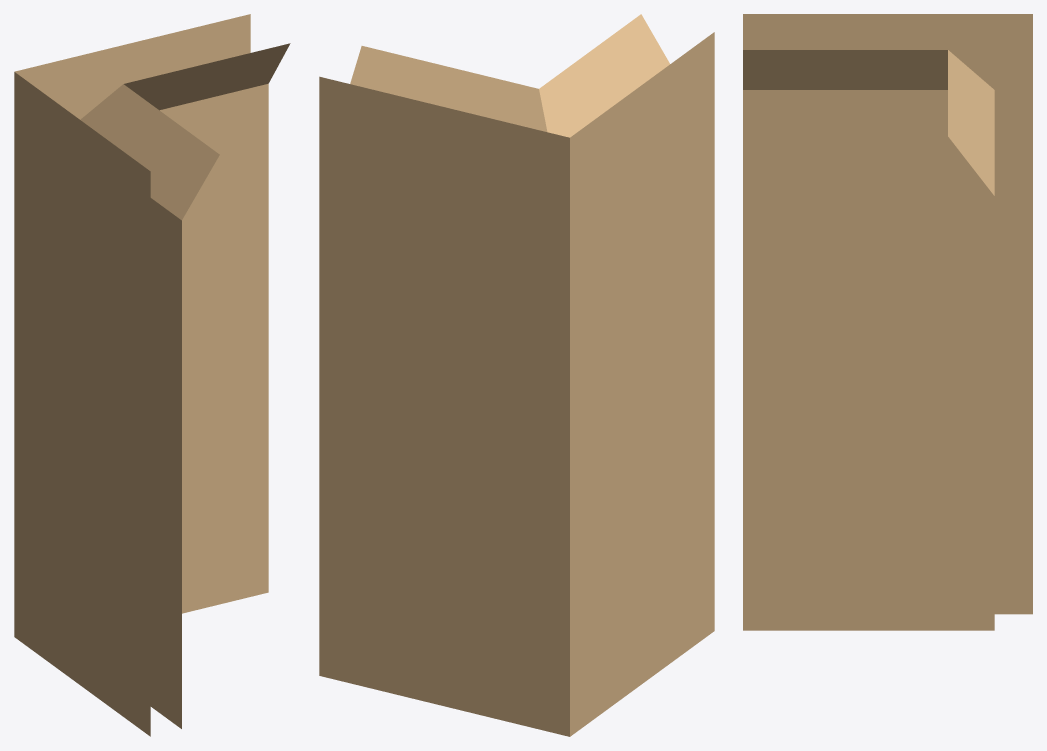
The model's file is SM_Coin_Cave.fbx.
The picture shows the model from 3 angles, left to right: view 1: azimuth 30°, elevation 25°; view 2: azimuth 150°, elevation 25°; view 3: azimuth 270°, elevation 25°; orthographic projection. The views are drawn at different scales.
Parts seen in each view (by area): view 1: SM_Coin_Cave; view 2: SM_Coin_Cave; view 3: SM_Coin_Cave.
Part boxes in pixels (x1,y1,x2,y2): SM_Coin_Cave: [14, 14, 290, 736]; SM_Coin_Cave: [319, 14, 714, 736]; SM_Coin_Cave: [743, 14, 1032, 630].
Size of the model in its own units: 1.09 by 2.5 by 1.09.
